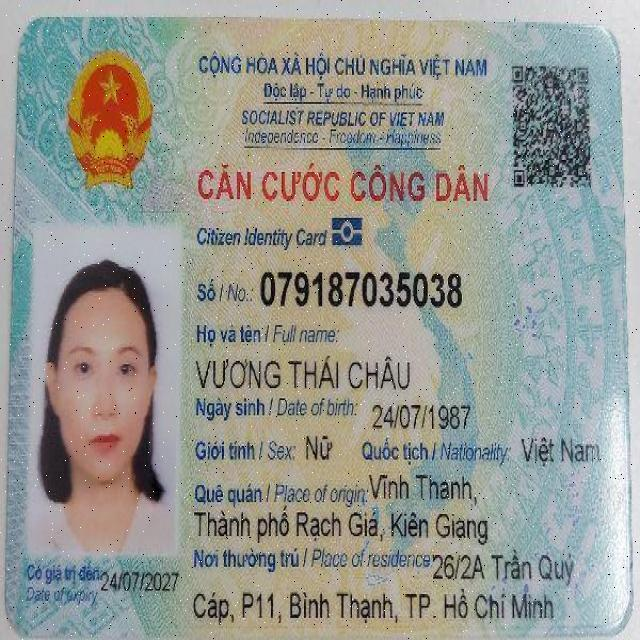current_place: (191, 581, 555, 629), (431, 548, 575, 589)
dob: (370, 403, 471, 432)
expire_date: (100, 565, 181, 599)
gender: (302, 424, 336, 458)
id: (260, 261, 463, 314)
name: (194, 348, 420, 392)
nationality: (520, 433, 602, 469)
origin_place: (197, 503, 492, 549), (367, 469, 482, 508)
